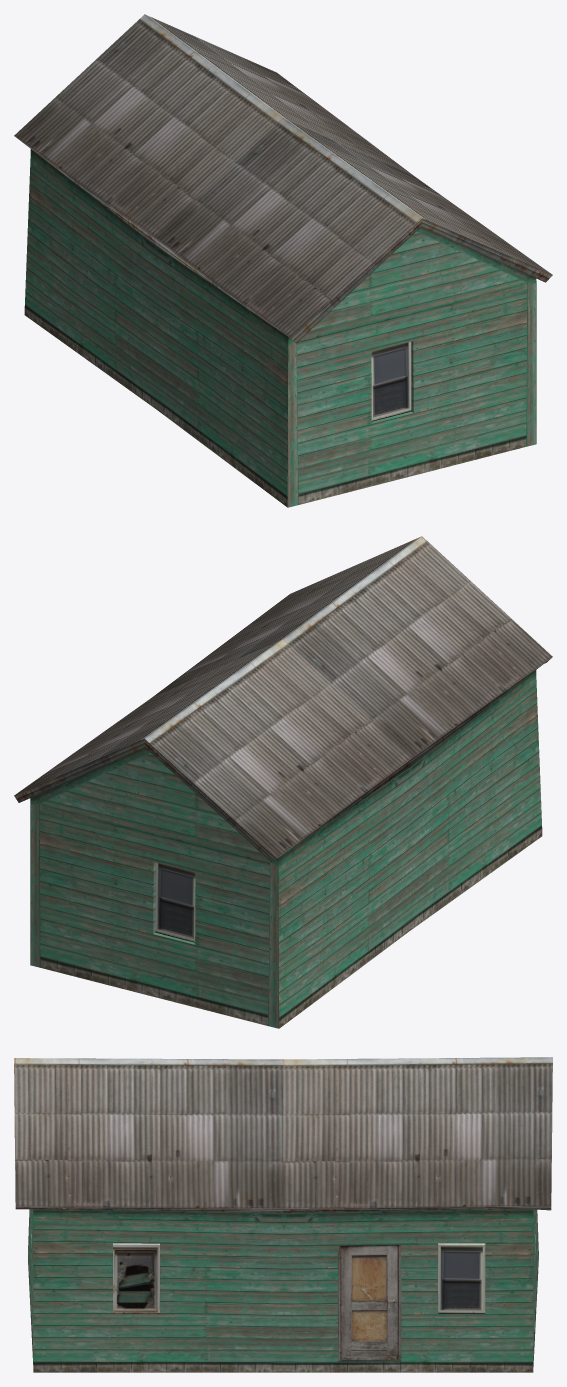
File: house1.fbx
3 renders of one model, top to bottom at view 1: azimuth 30°, elevation 25°; view 2: azimuth 150°, elevation 25°; view 3: azimuth 270°, elevation 25°, orthographic. The views are drawn at different scales.
Visible parts, largest first — view 1: house01; view 2: house01; view 3: house01.
Boxes of the visible parts, x1,y1,x2,y2 form: house01: (14,14,552,507); house01: (14,536,552,1028); house01: (14,1057,552,1372).
Bounding box in the file's own units: 475 × 457 × 869.
Materials: 1 (1 with a texture image).
